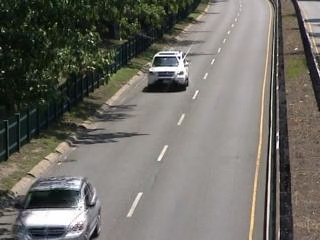car: (9, 170, 102, 240), (146, 46, 194, 93)
